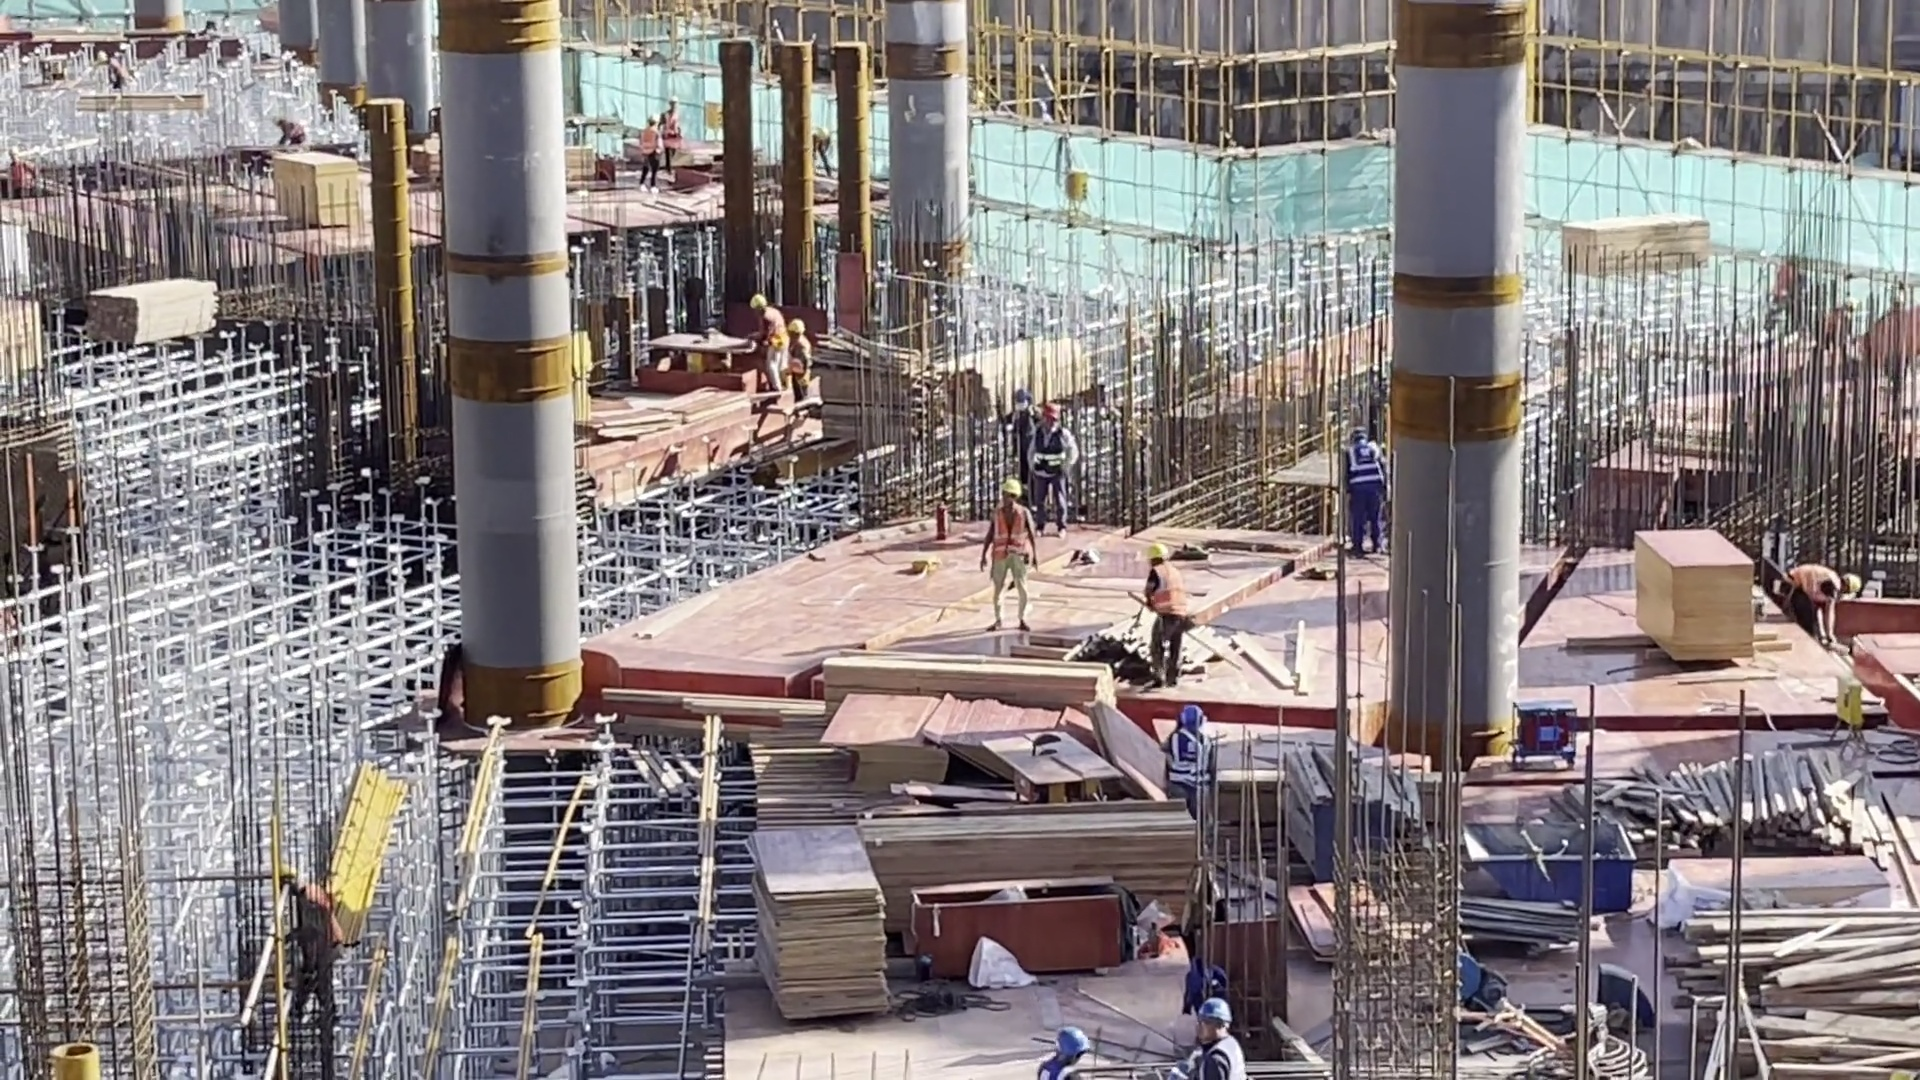board: (730, 682, 1121, 868), (736, 798, 892, 1020), (1626, 534, 1766, 670)
helmet: (1194, 994, 1242, 1042), (1051, 1022, 1094, 1054), (777, 333, 829, 356), (1178, 701, 1205, 733), (999, 473, 1022, 500), (1143, 542, 1165, 568), (1042, 402, 1061, 425), (660, 90, 679, 112), (1007, 396, 1029, 416), (749, 295, 766, 315), (789, 317, 806, 335), (642, 114, 659, 130)
hopper: (898, 864, 1149, 983), (1449, 811, 1649, 922)
person: (983, 474, 1045, 633), (1131, 543, 1197, 686), (1332, 428, 1398, 556), (1028, 403, 1080, 534), (1153, 705, 1214, 804), (1184, 996, 1251, 1080), (1780, 561, 1842, 641), (749, 291, 789, 394), (632, 114, 665, 199), (998, 388, 1039, 456), (655, 94, 687, 178), (802, 123, 837, 177), (786, 354, 814, 400), (784, 320, 811, 365)
vest: (1347, 445, 1386, 510), (1164, 734, 1205, 793), (994, 513, 1033, 569), (1032, 437, 1071, 480), (1148, 568, 1185, 609), (660, 111, 682, 149), (638, 127, 661, 161)
wood: (1663, 894, 1920, 1071), (1618, 753, 1866, 861), (570, 389, 759, 523), (77, 264, 237, 364), (819, 338, 944, 456), (1541, 215, 1726, 290)
